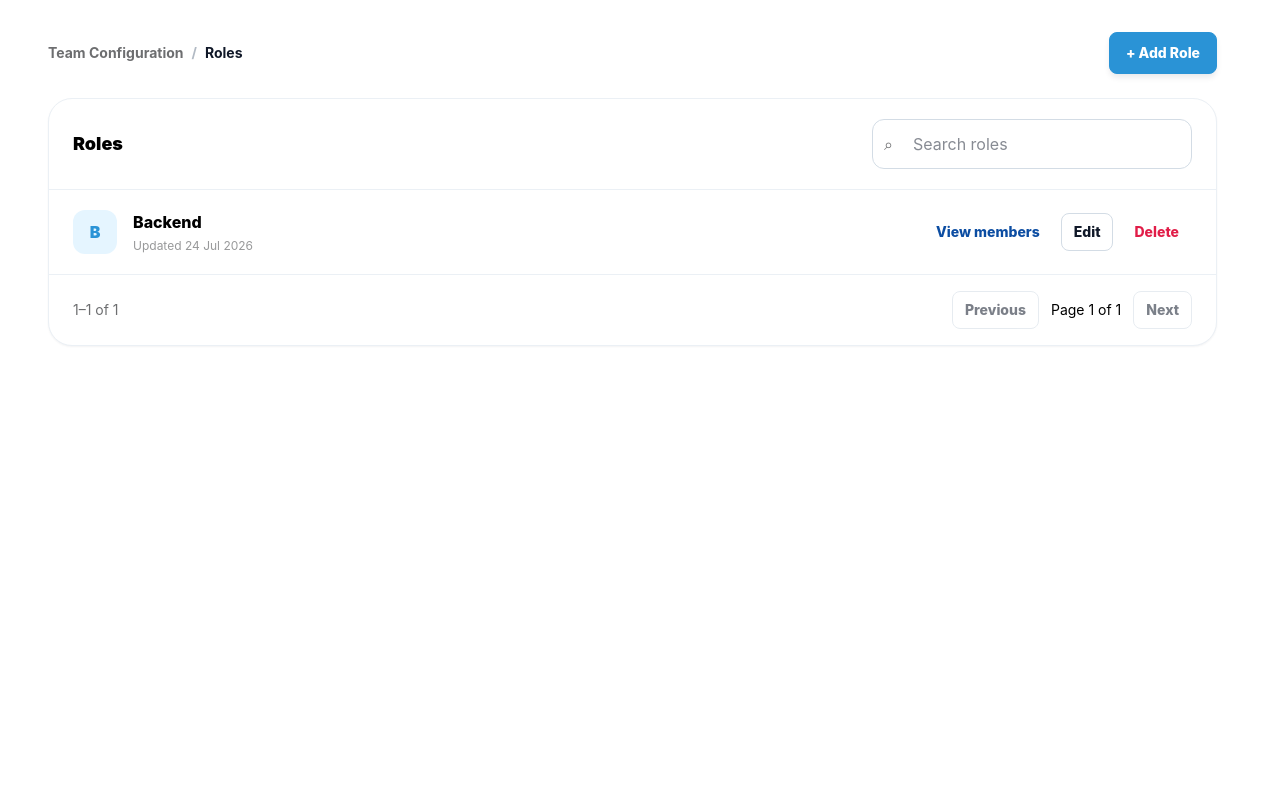
Test: RolesDashboardPage › edits a role and refreshes the list
Click the button with aria-label "Edit Backend" at point(1087, 232), box [1061,213,1114,251]
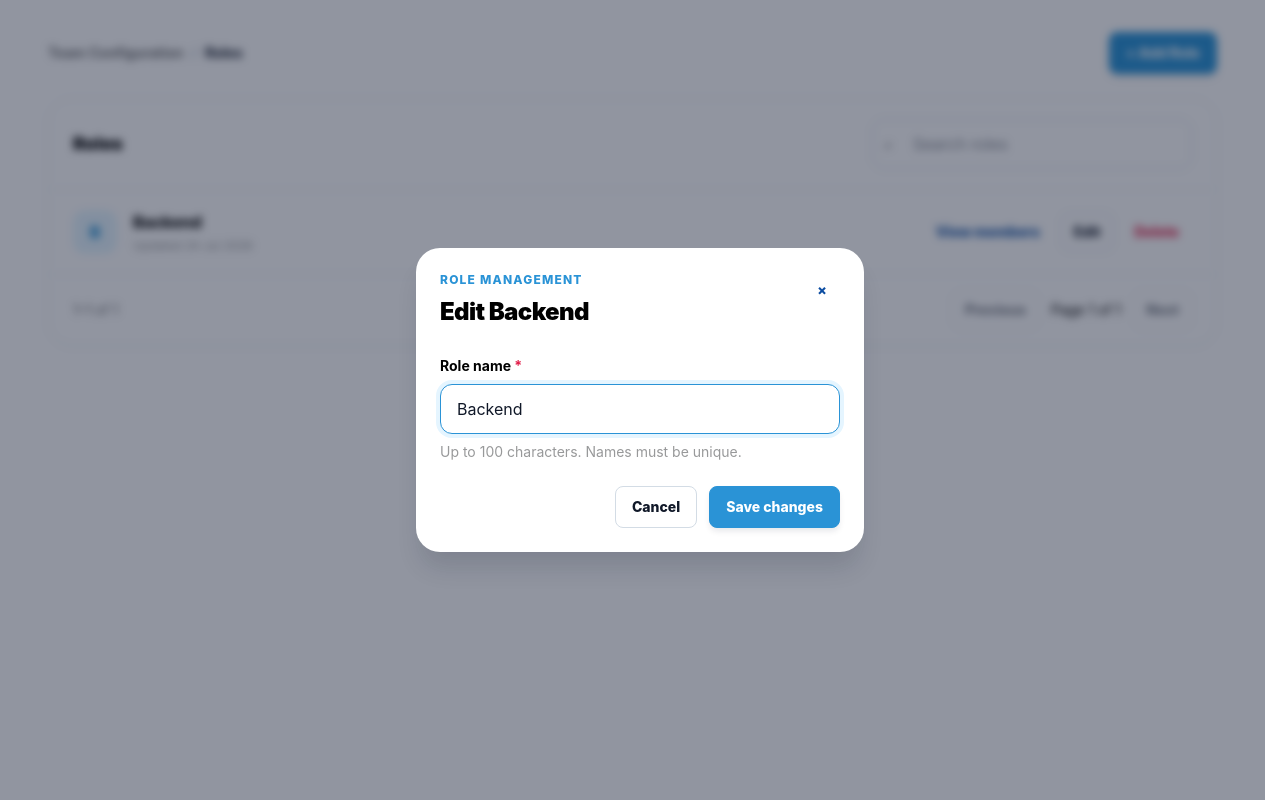
Replace the text in the field labelled "Role name" with "Backend Engineer" at point(640, 409), box [440,384,840,434]
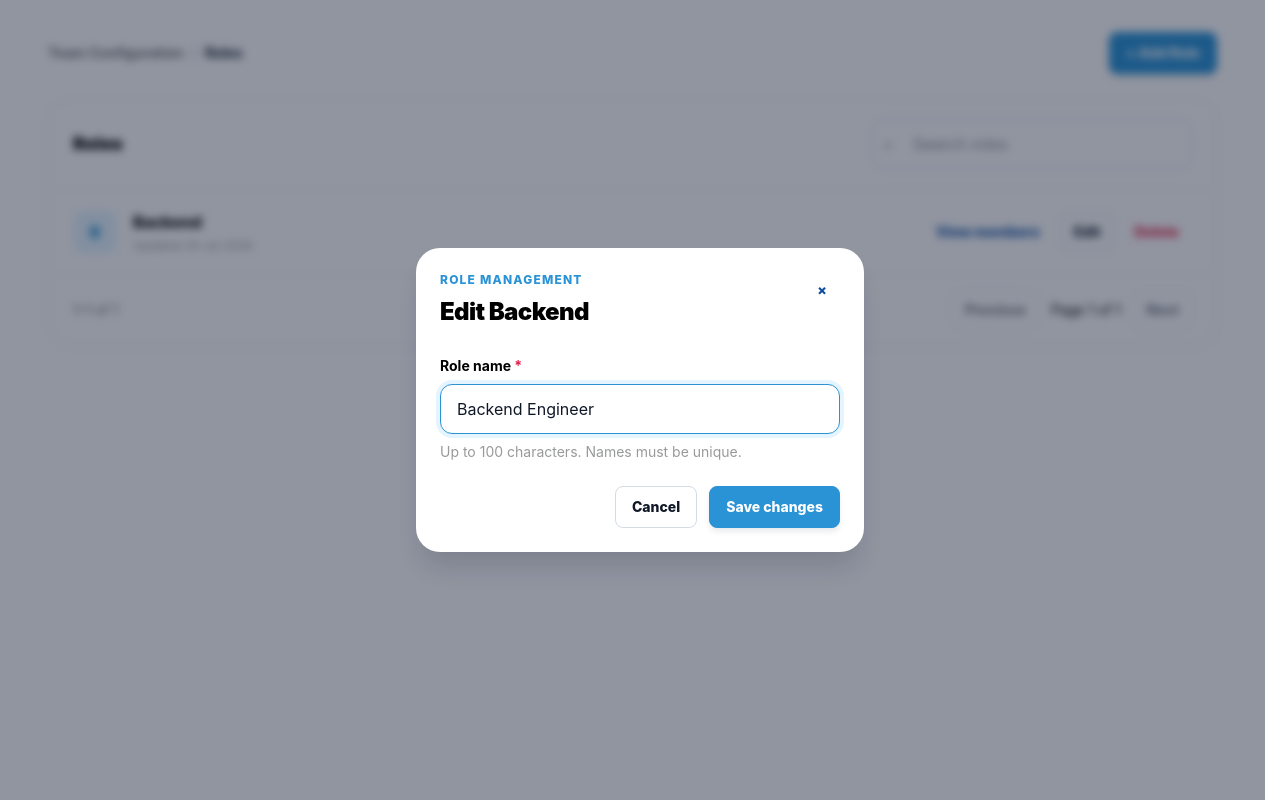
Click the button "Save changes" at point(775, 507), box [709,486,840,528]
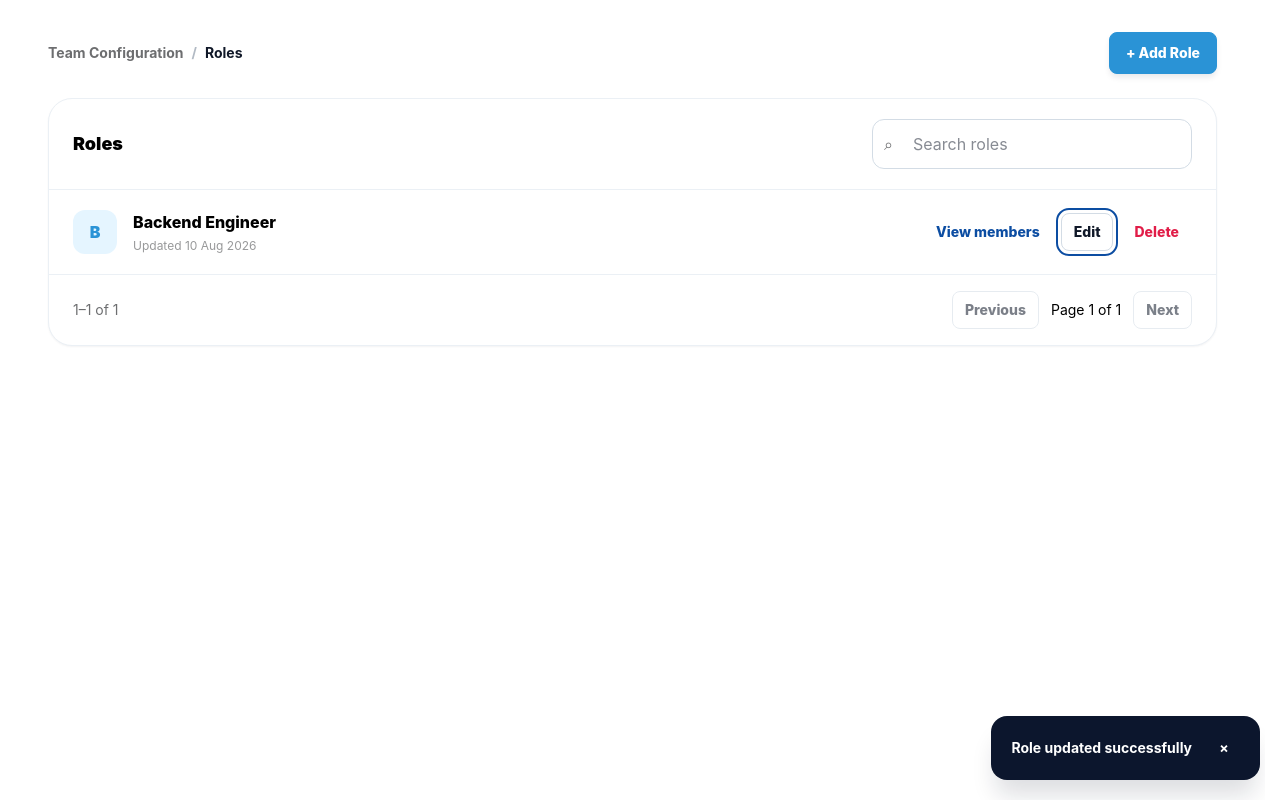
Expected: the text "Role updated successfully" is shown, [1012,738,1192,758]
Expected: the heading "Backend Engineer" is shown, [133,210,276,234]
